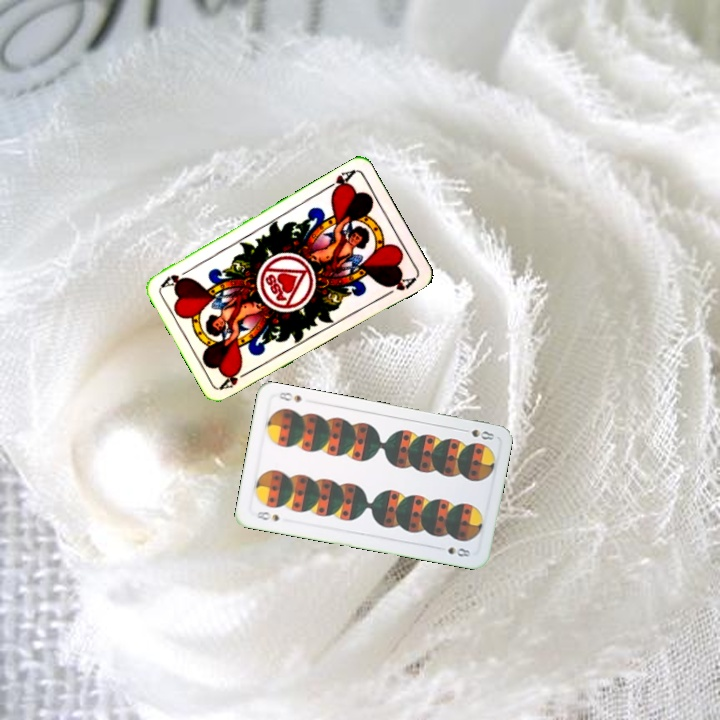HA: (321, 165, 358, 197), (216, 365, 254, 392)
S8: (467, 425, 497, 443), (252, 507, 282, 524)
